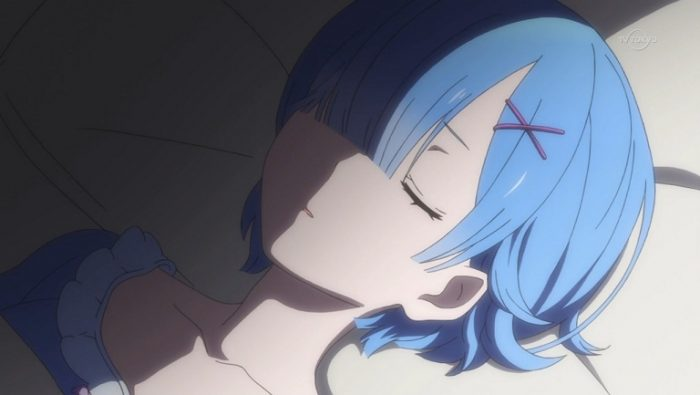rem: (1, 4, 656, 393)
